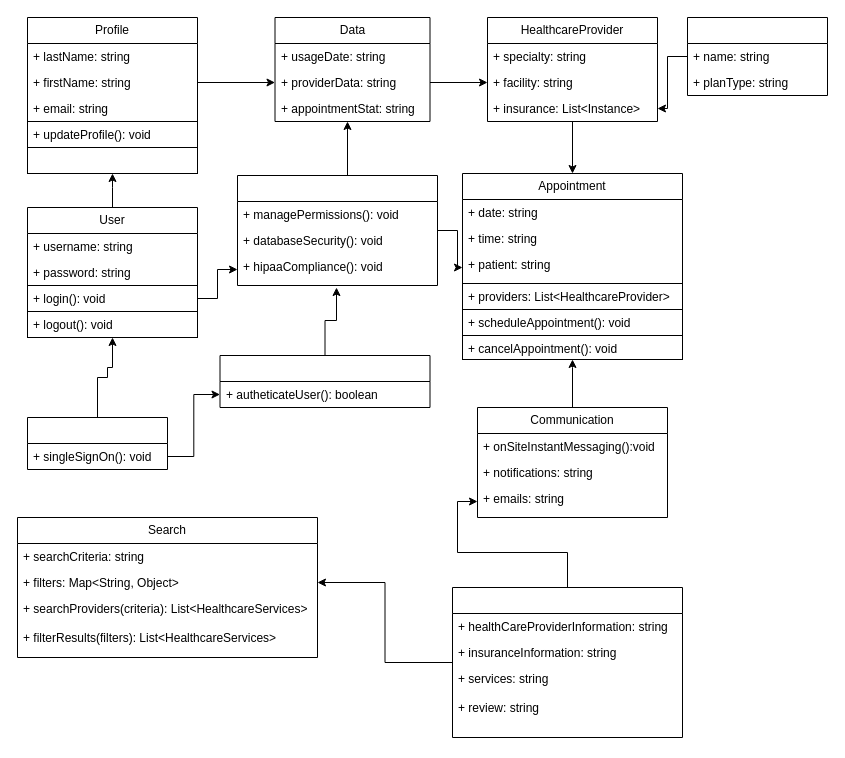
Some shapes in this 845 by 758 pixel diagram are drawn without their labels. The box of each missing label's shape, as (x1, y1, x2, y2) in pixels:
+ getReviews(): List<Review>: (26, 146, 198, 174)
HealthcareServices: (452, 586, 682, 738)
Insurance: (686, 16, 828, 96)
Other Systems (External): (26, 416, 168, 470)
Privacy: (236, 174, 438, 286)
Security: (219, 354, 430, 408)
